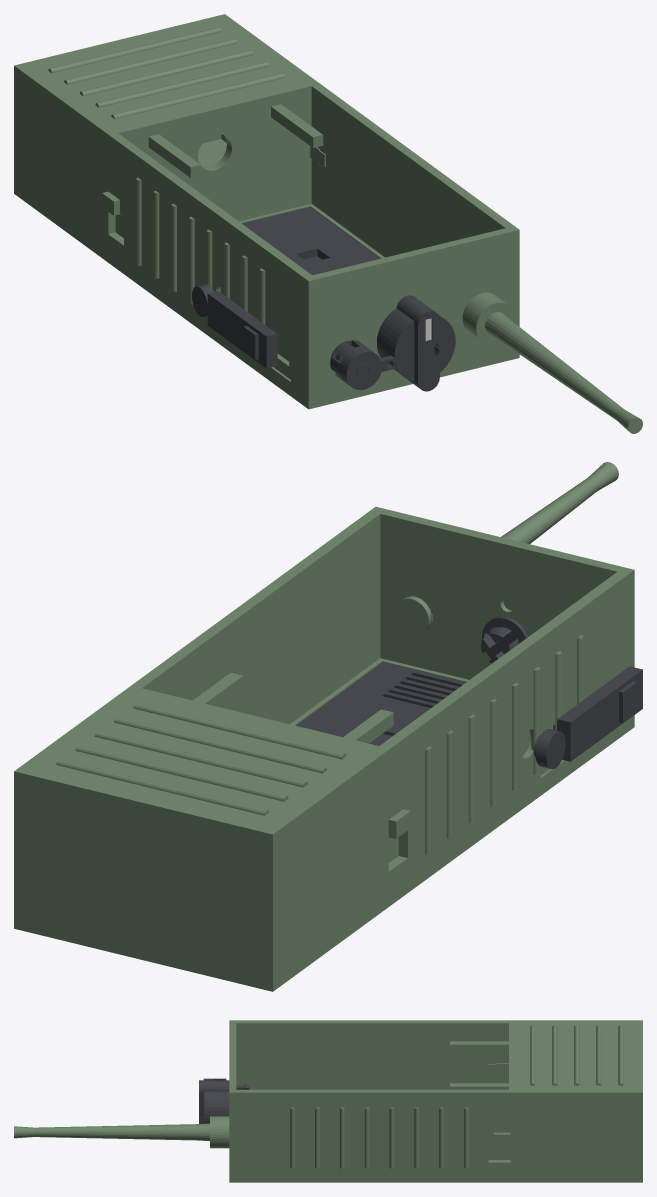
File: SDR-HH_assembled.glb
3 views of the same model, one above another, from view 1: azimuth 30°, elevation 25°; view 2: azimuth 150°, elevation 25°; view 3: azimuth 270°, elevation 25° (orthographic). The views are drawn at different scales.
Parts seen in each view (by area): view 1: front_shell, battery_pack, front_panel, knob_body, antenna, ptt_bar, cap_gps; view 2: front_shell, battery_pack, front_panel, ptt_bar, antenna, boss_adapter, side_button; view 3: front_shell, battery_pack, antenna, knob_body.
Part boxes in pixels (<box>): front_shell: <box>104,80,519,409</box>; battery_pack: <box>14,14,325,259</box>; front_panel: <box>242,207,380,275</box>; knob_body: <box>377,295,455,391</box>; antenna: <box>485,312,642,433</box>; ptt_bar: <box>207,291,277,368</box>; cap_gps: <box>330,340,394,389</box>; front_shell: <box>125,506,634,910</box>; battery_pack: <box>14,690,410,991</box>; front_panel: <box>296,662,465,745</box>; ptt_bar: <box>557,666,642,761</box>; antenna: <box>395,462,618,634</box>; boss_adapter: <box>481,616,528,663</box>; side_button: <box>534,729,565,768</box>; front_shell: <box>210,1020,515,1182</box>; battery_pack: <box>488,1020,642,1182</box>; antenna: <box>14,1123,209,1141</box>; knob_body: <box>199,1080,229,1123</box>.
Size of the model in its own units: 72 by 38.85 by 228.
